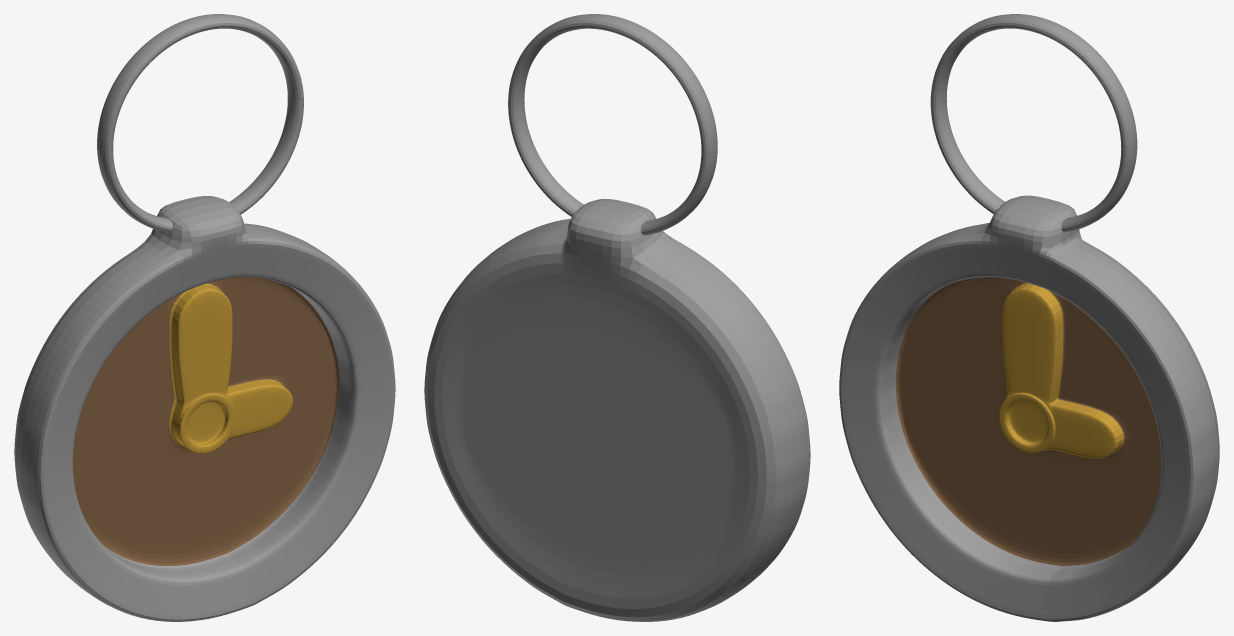
Rendered from brujula.glb.
3 renders of one model, left to right at view 1: azimuth 30°, elevation 25°; view 2: azimuth 150°, elevation 25°; view 3: azimuth 330°, elevation 25°, orthographic.
Parts seen in each view (by area): view 1: Circle; view 2: Circle; view 3: Circle.
Part boxes in pixels (x1,y1,x2,y2): Circle: [14, 14, 395, 621]; Circle: [424, 14, 810, 621]; Circle: [839, 14, 1219, 621].
Size of the model in its own units: 1.99 by 3.11 by 0.3744.
